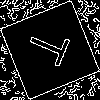T: (25, 25, 79, 71)
